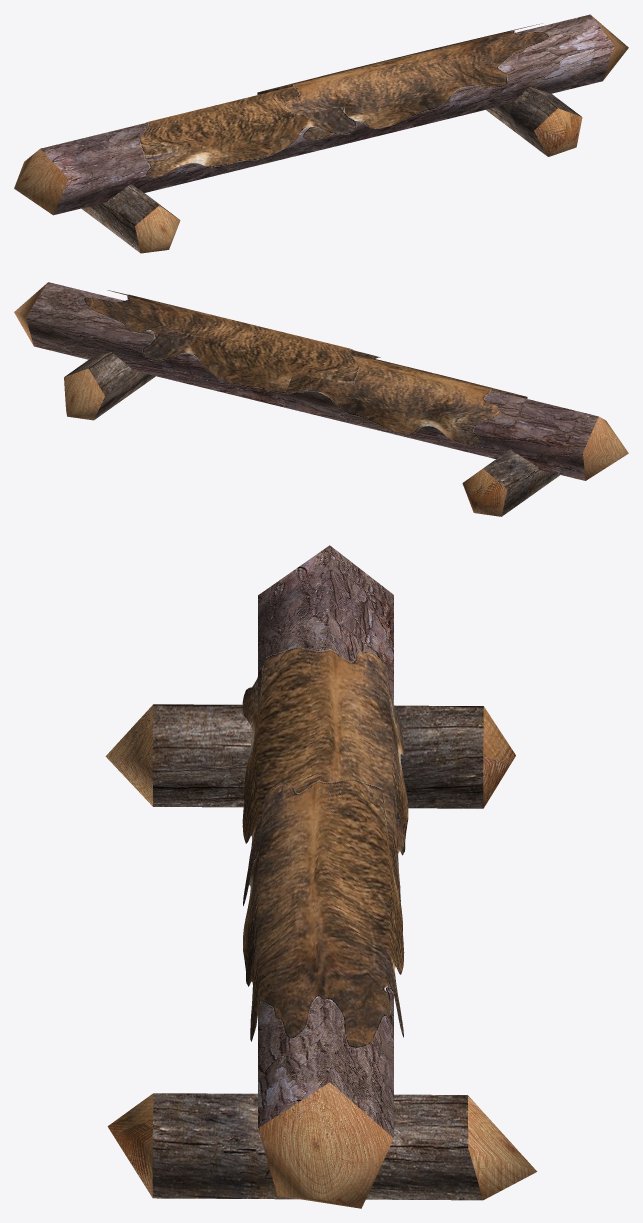
File: log_bench1.FBX
The picture shows the model from 3 angles, top to bottom: view 1: azimuth 30°, elevation 25°; view 2: azimuth 150°, elevation 25°; view 3: azimuth 270°, elevation 25°; orthographic projection. The views are drawn at different scales.
Visible parts, largest first — view 1: Log_bench1; view 2: Log_bench1; view 3: Log_bench1.
Part boxes in pixels (<box>): Log_bench1: <box>14,14,628,253</box>; Log_bench1: <box>14,282,628,516</box>; Log_bench1: <box>105,545,537,1208</box>.
Size of the model in its own units: 26.26 by 3.84 by 7.99.
4 materials, 4 textured.
